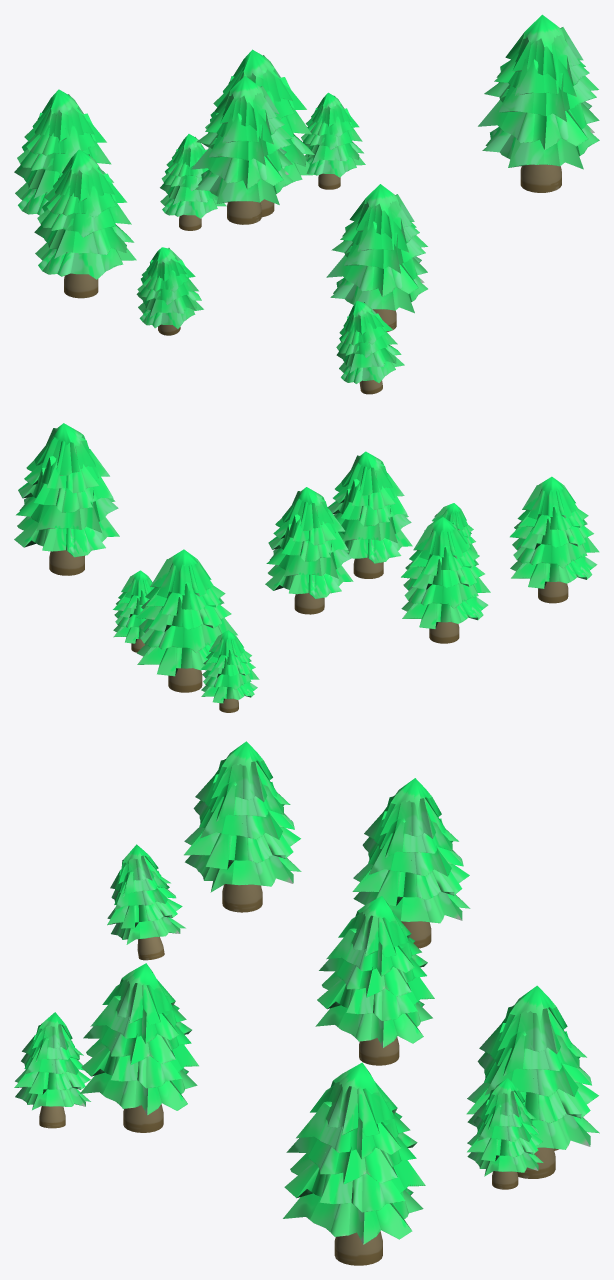
The model's file is greentrees.fbx.
3 views of the same model, one above another, from view 1: azimuth 30°, elevation 25°; view 2: azimuth 150°, elevation 25°; view 3: azimuth 270°, elevation 25° (orthographic). The views are drawn at different scales.
Parts seen in each view (by area): view 1: group26_pasted__pCone2.001, group26_pasted__pCone2.004, group26_pasted__pCone2.014, group26_pasted__pCone2.002, group26_pasted__pCone2.005, group26_pasted__pCone2.009, group26_pasted__pCone2.007, group26_pasted__pCone2.010, group26_pasted__pCone2.006, group26_pasted__pCone2.008; view 2: group26_pasted__pCone2.001, group26_pasted__pCone2.006, group26_pasted__pCone2.014, group26_pasted__pCone2.005, group26_pasted__pCone2.004, group26_pasted__pCone2.002, group26_pasted__pCone2.008, group26_pasted__pCone2.007, group26_pasted__pCone2.009; view 3: group26_pasted__pCone2.001, group26_pasted__pCone2.004, group26_pasted__pCone2.002, group26_pasted__pCone2.014, group26_pasted__pCone2.006, group26_pasted__pCone2.005, group26_pasted__pCone2.009, group26_pasted__pCone2.010, group26_pasted__pCone2.007.
Part boxes in pixels (x1=…): group26_pasted__pCone2.001: x1=478, y1=14, x2=599, y2=192; group26_pasted__pCone2.004: x1=191, y1=76, x2=292, y2=224; group26_pasted__pCone2.014: x1=34, y1=149, x2=136, y2=298; group26_pasted__pCone2.002: x1=326, y1=184, x2=427, y2=331; group26_pasted__pCone2.005: x1=14, y1=89, x2=113, y2=215; group26_pasted__pCone2.009: x1=336, y1=301, x2=404, y2=394; group26_pasted__pCone2.007: x1=301, y1=92, x2=365, y2=189; group26_pasted__pCone2.010: x1=136, y1=247, x2=203, y2=335; group26_pasted__pCone2.006: x1=202, y1=49, x2=314, y2=217; group26_pasted__pCone2.008: x1=160, y1=134, x2=226, y2=230; group26_pasted__pCone2.001: x1=14, y1=423, x2=119, y2=575; group26_pasted__pCone2.006: x1=136, y1=549, x2=237, y2=692; group26_pasted__pCone2.014: x1=510, y1=476, x2=599, y2=603; group26_pasted__pCone2.005: x1=401, y1=517, x2=490, y2=643; group26_pasted__pCone2.004: x1=265, y1=487, x2=353, y2=614; group26_pasted__pCone2.002: x1=327, y1=451, x2=412, y2=578; group26_pasted__pCone2.008: x1=201, y1=630, x2=259, y2=712; group26_pasted__pCone2.007: x1=113, y1=570, x2=154, y2=652; group26_pasted__pCone2.009: x1=424, y1=503, x2=477, y2=553; group26_pasted__pCone2.001: x1=283, y1=1062, x2=425, y2=1265; group26_pasted__pCone2.004: x1=315, y1=896, x2=434, y2=1065; group26_pasted__pCone2.002: x1=80, y1=963, x2=198, y2=1132; group26_pasted__pCone2.014: x1=184, y1=741, x2=301, y2=912; group26_pasted__pCone2.006: x1=466, y1=985, x2=599, y2=1178; group26_pasted__pCone2.005: x1=352, y1=778, x2=470, y2=948; group26_pasted__pCone2.009: x1=14, y1=1012, x2=90, y2=1128; group26_pasted__pCone2.010: x1=107, y1=844, x2=185, y2=960; group26_pasted__pCone2.007: x1=467, y1=1078, x2=543, y2=1189.
Size of the model in its own units: 28872 by 10509 by 20824.
10 materials, 10 textured.
